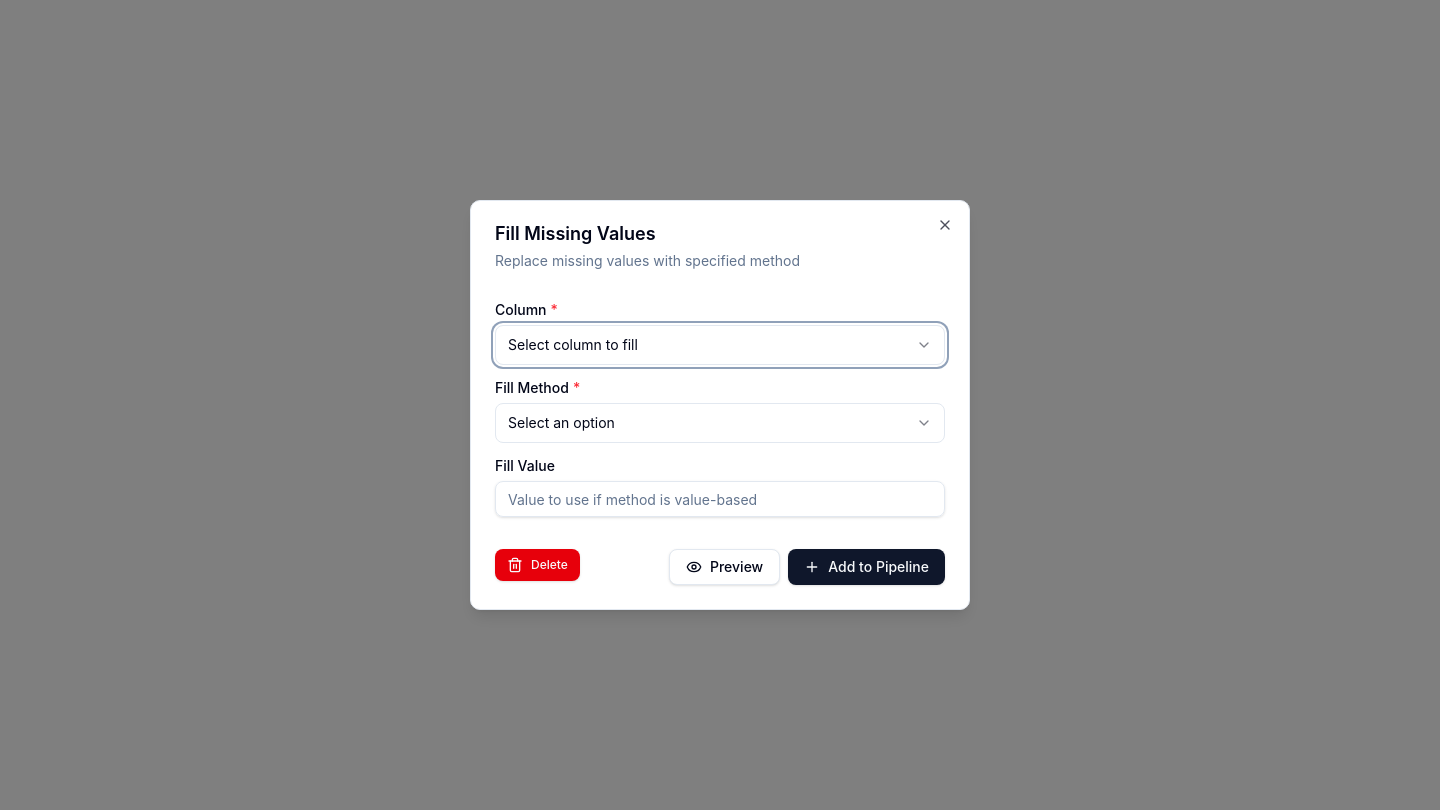
Scenario: TransformationConfigDialog › Preview Functionality › shows error if preview fails
Click the dropdown labelled "Select column to fill" at point(573, 344), box [495,325,945,365]
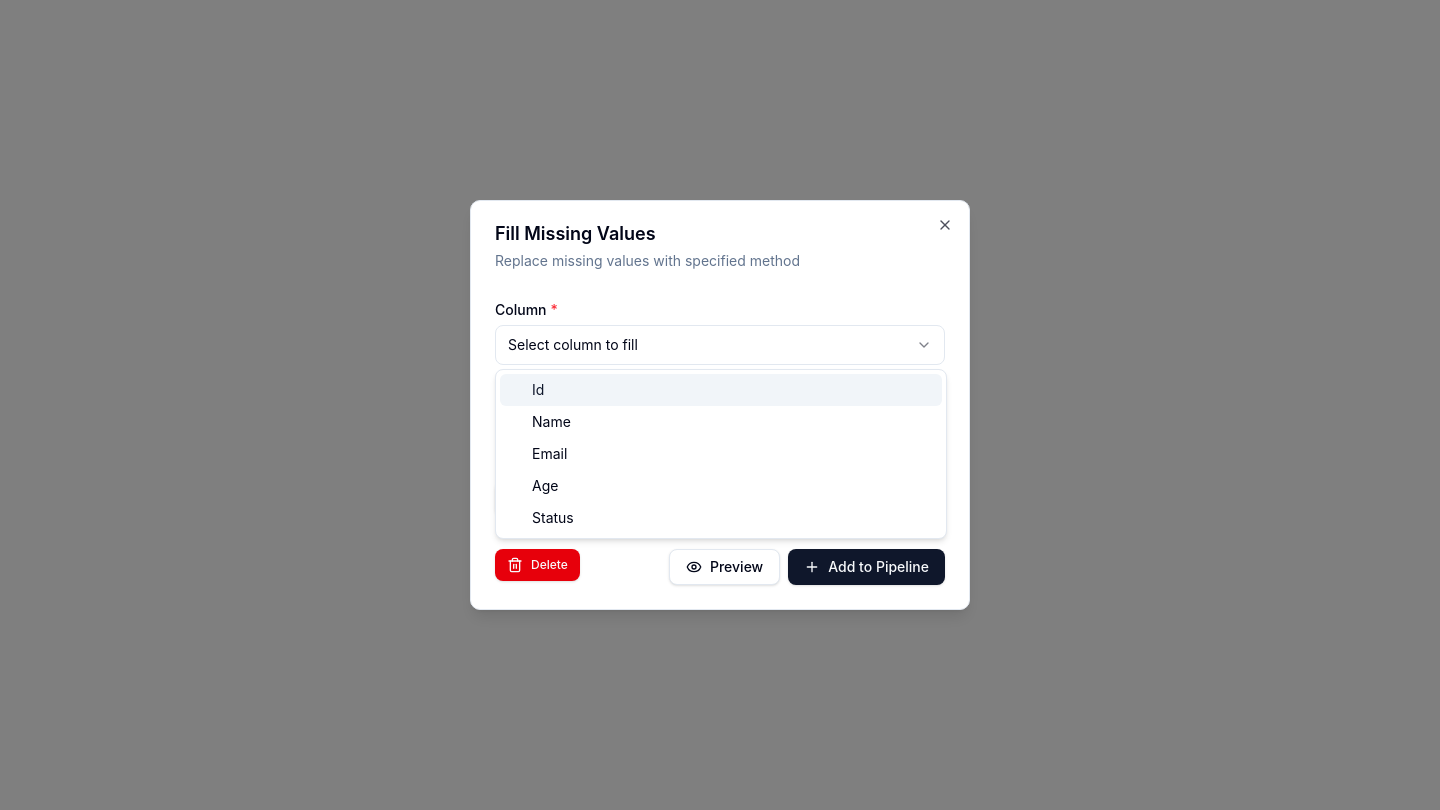
Click the option "Name" at point(551, 422), box [532,413,571,430]
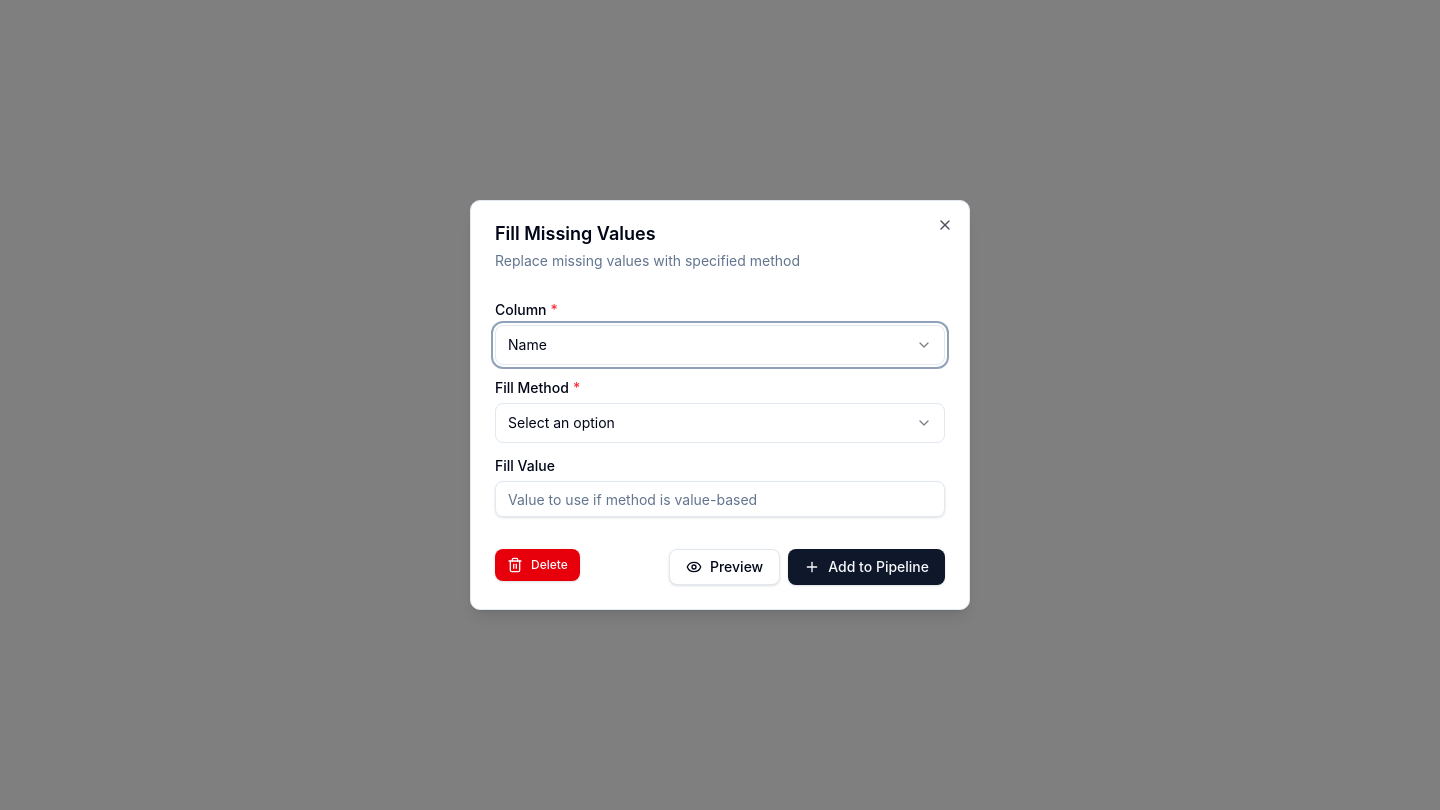
Click the dropdown named "Fill Method" at point(561, 422), box [495,403,945,443]
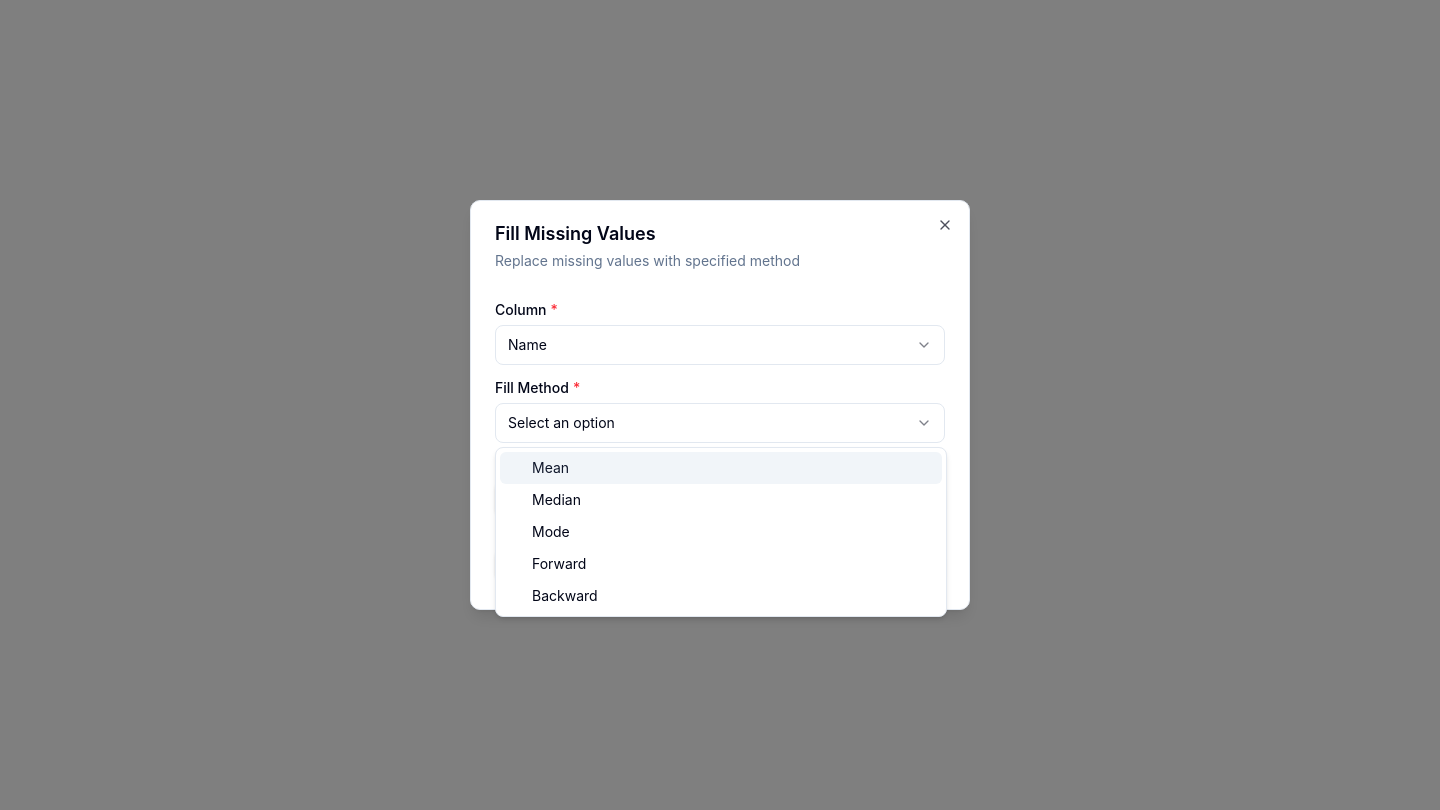
Click the option "Mean" at point(551, 468), box [500,452,942,484]
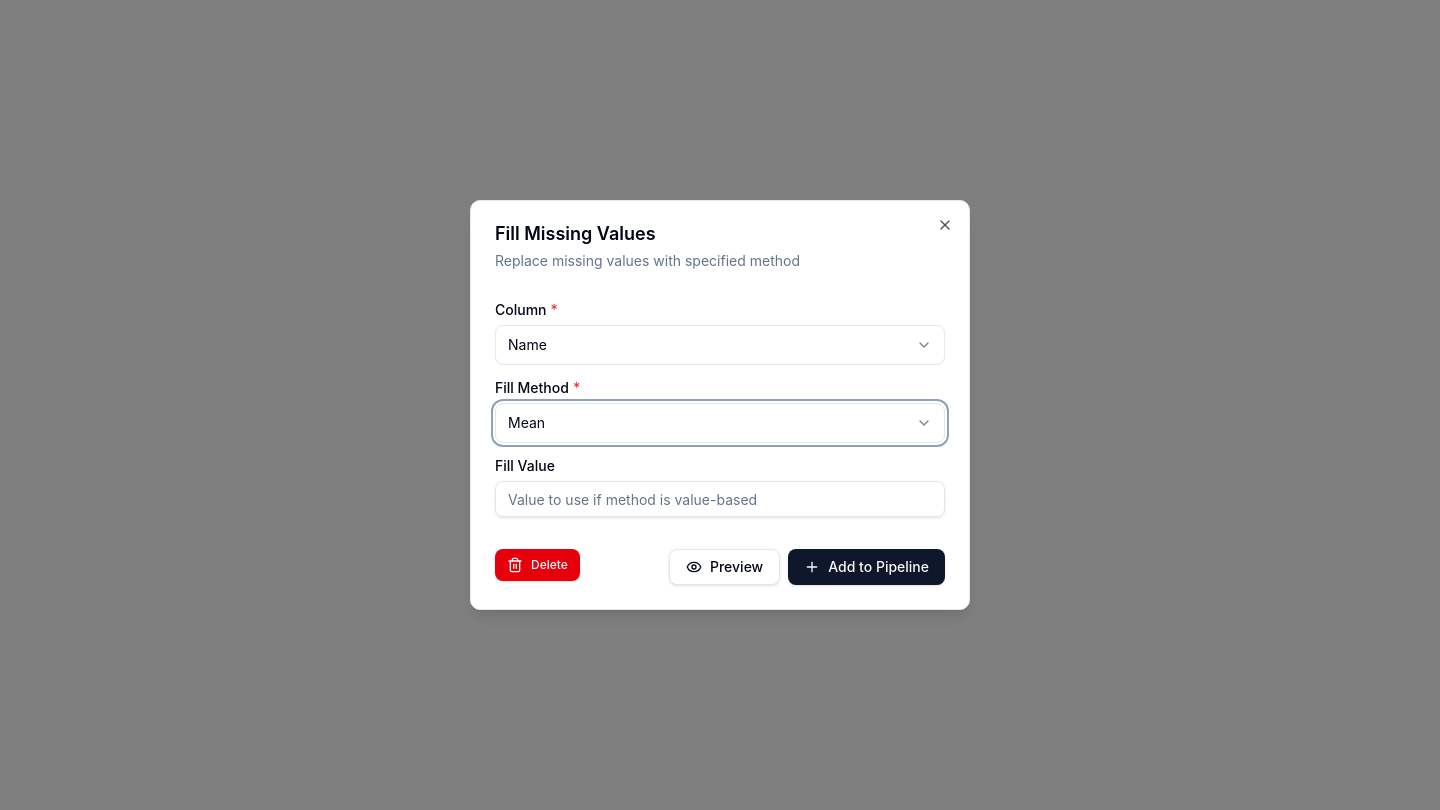
Click the button "Preview" at point(725, 567), box [669,549,780,585]
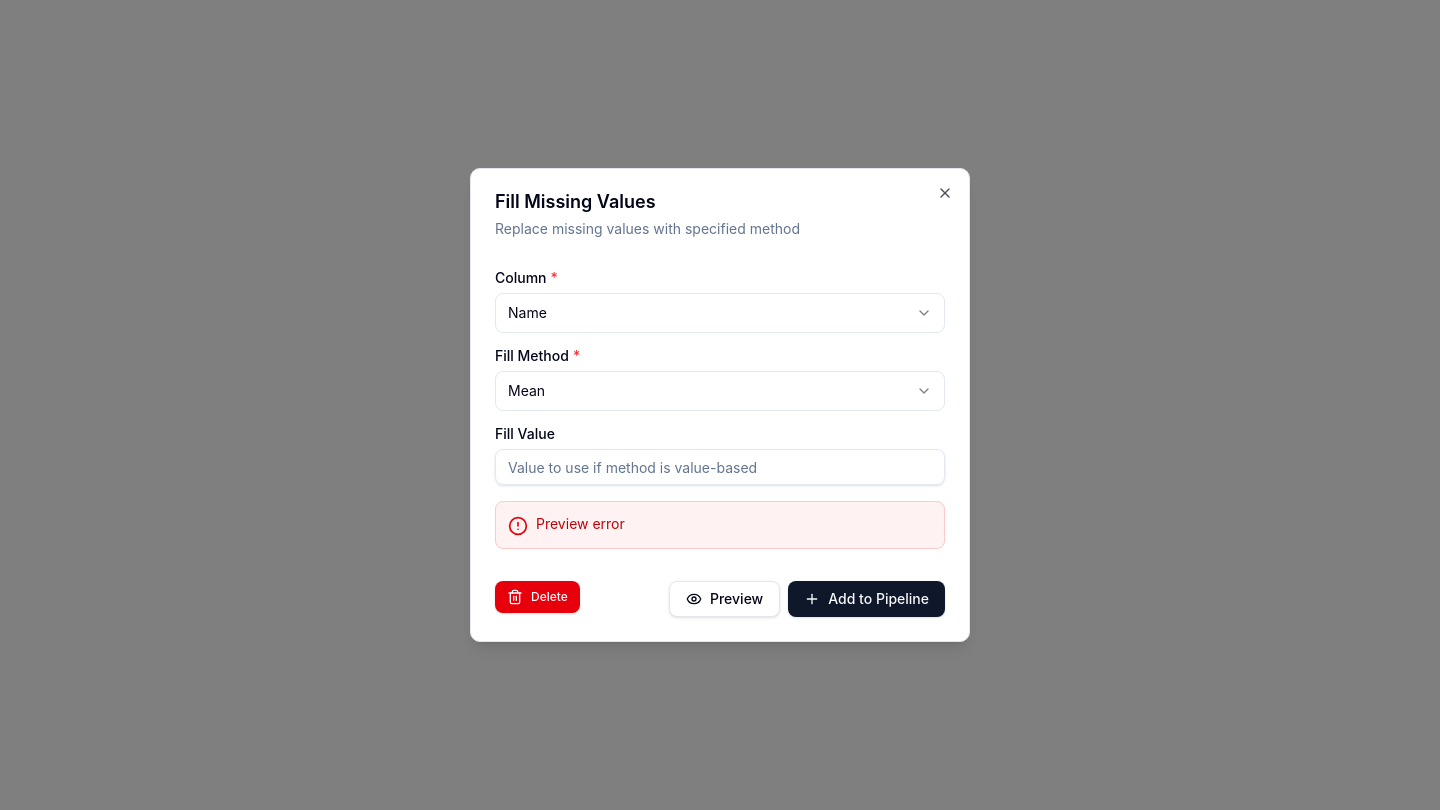
Result: the text "Preview error" is shown at [536,514,625,534]
